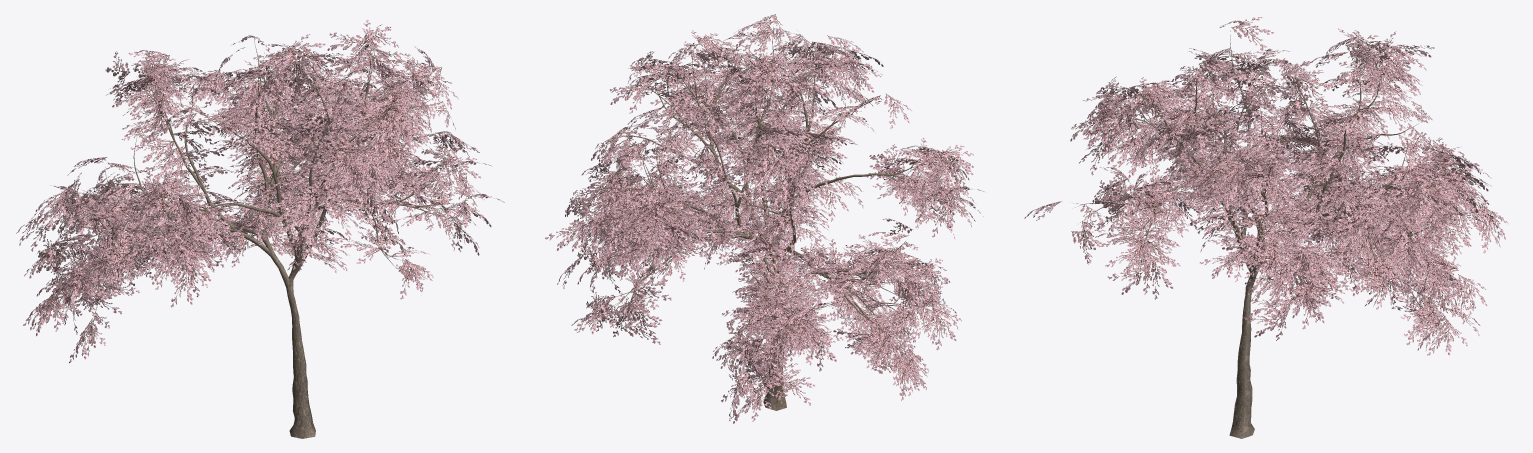
The model's file is cherry-a.glb.
The picture shows the model from 3 angles, left to right: view 1: azimuth 30°, elevation 25°; view 2: azimuth 150°, elevation 25°; view 3: azimuth 270°, elevation 25°; orthographic projection. The views are drawn at different scales.
Visible parts, largest first — view 1: foliage, bark; view 2: foliage, bark; view 3: foliage, bark.
Part boxes in pixels (x1,y1,x2,y2): foliage: (16,20,504,363); bark: (59,40,461,438); foliage: (545,14,984,423); bark: (594,24,939,410); foliage: (1024,17,1508,355); bark: (1075,31,1468,438).
Bounding box in the file's own units: 5.33 × 4.6 × 5.38.
2 materials, 2 textured.
